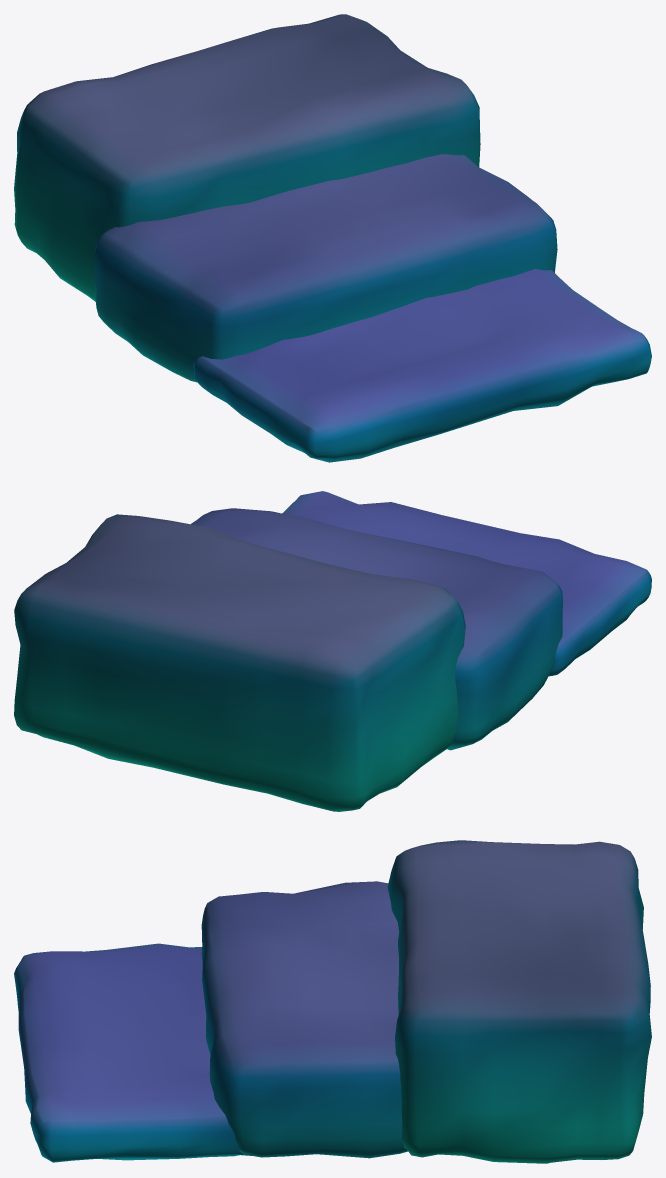
The model's file is causeway_slab_steps.glb.
The picture shows the model from 3 angles, top to bottom: view 1: azimuth 30°, elevation 25°; view 2: azimuth 150°, elevation 25°; view 3: azimuth 270°, elevation 25°; orthographic projection. The views are drawn at different scales.
Parts seen in each view (by area): view 1: causeway_slab_steps; view 2: causeway_slab_steps; view 3: causeway_slab_steps.
Boxes of the visible parts, x1=… form: causeway_slab_steps: x1=14, y1=14, x2=651, y2=462; causeway_slab_steps: x1=14, y1=491, x2=651, y2=811; causeway_slab_steps: x1=14, y1=840, x2=651, y2=1163.
Size of what is drawn, in the model's own units: 1.34 by 0.5769 by 1.87.
